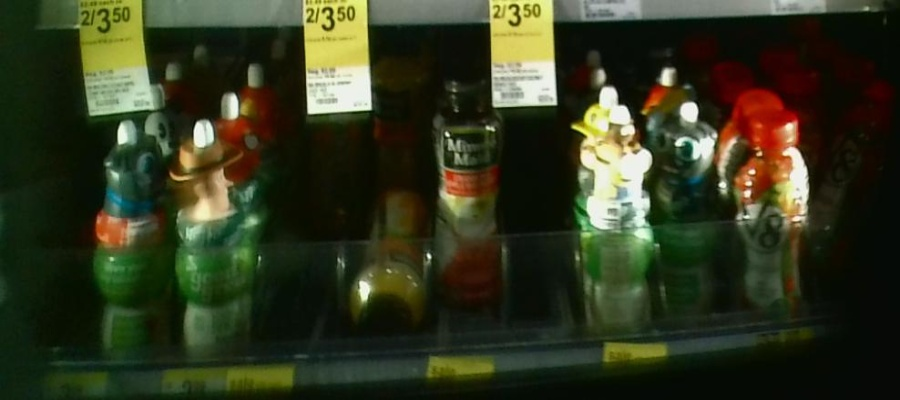bottle: (169, 106, 262, 362), (581, 97, 655, 340), (95, 120, 168, 361), (732, 111, 811, 316), (436, 77, 503, 309), (659, 97, 720, 321), (360, 189, 421, 332)
